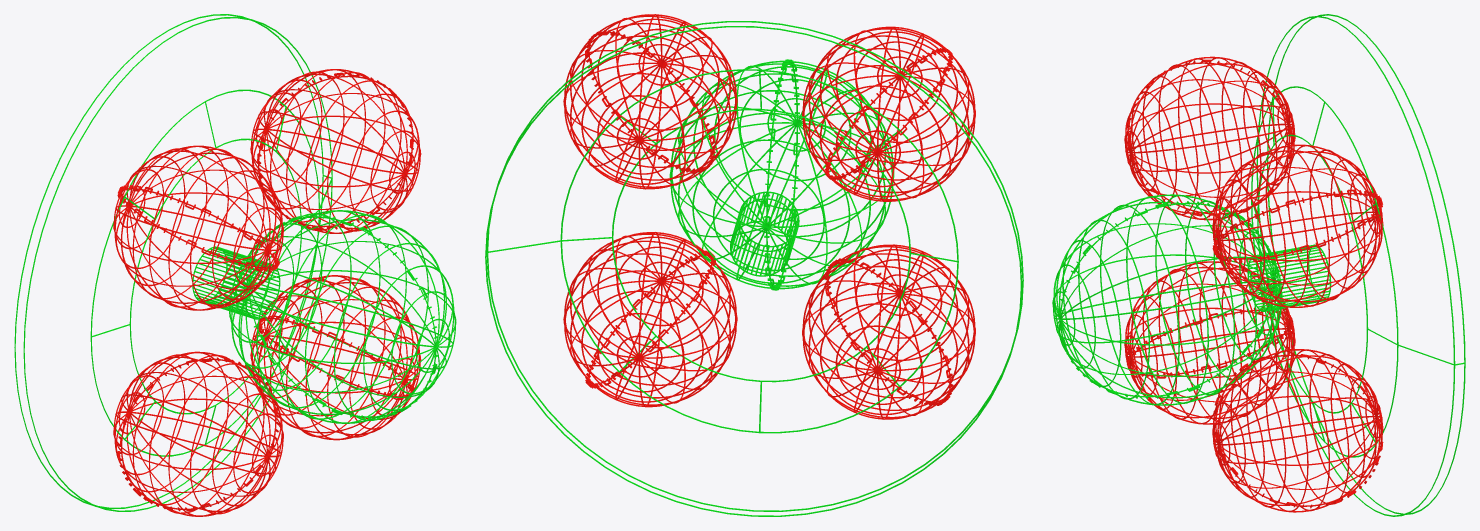
File: asteroid-engines-highlight-opposing-generator-pairs.glb
3 renders of one model, left to right at view 1: azimuth 30°, elevation 25°; view 2: azimuth 150°, elevation 25°; view 3: azimuth 270°, elevation 25°, orthographic. The views are drawn at different scales.
Parts seen in each view (by area): view 1: opposing-generator-pairs technical wire, central-gravitic-reactor technical wire, fixed-asteroid-mount technical wire, chassis technical wire; view 2: opposing-generator-pairs technical wire, central-gravitic-reactor technical wire, fixed-asteroid-mount technical wire, chassis technical wire; view 3: opposing-generator-pairs technical wire, central-gravitic-reactor technical wire, fixed-asteroid-mount technical wire, chassis technical wire.
Part boxes in pixels (left/top/right/bottom): opposing-generator-pairs technical wire: left=113, top=69, right=421, bottom=516; central-gravitic-reactor technical wire: left=229, top=210, right=456, bottom=423; fixed-asteroid-mount technical wire: left=14, top=14, right=332, bottom=511; chassis technical wire: left=192, top=246, right=280, bottom=319; opposing-generator-pairs technical wire: left=563, top=14, right=975, bottom=419; central-gravitic-reactor technical wire: left=669, top=59, right=894, bottom=290; fixed-asteroid-mount technical wire: left=485, top=21, right=1023, bottom=516; chassis technical wire: left=730, top=191, right=799, bottom=276; opposing-generator-pairs technical wire: left=1124, top=56, right=1383, bottom=512; central-gravitic-reactor technical wire: left=1052, top=194, right=1282, bottom=405; fixed-asteroid-mount technical wire: left=1251, top=14, right=1465, bottom=516; chassis technical wire: left=1247, top=244, right=1331, bottom=311.
Bounding box in the file's own units: 2.52 × 2.71 × 2.2.
